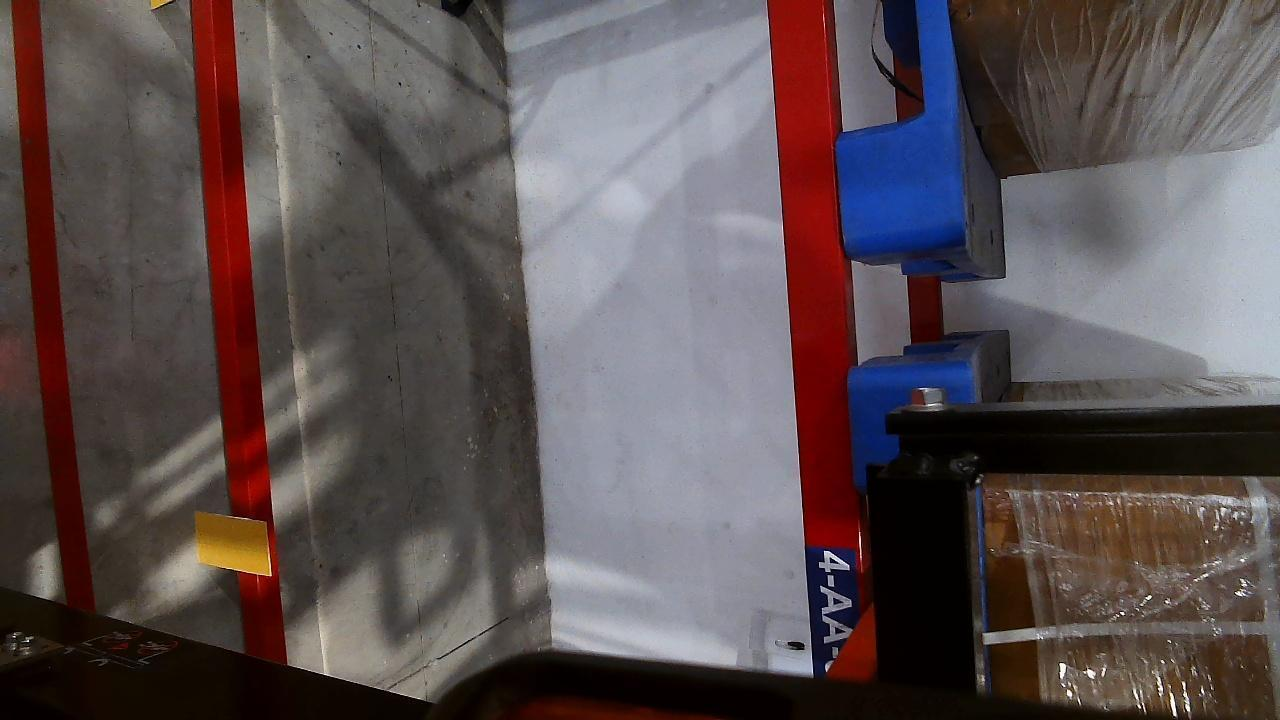red_line: (7, 1, 86, 601)
